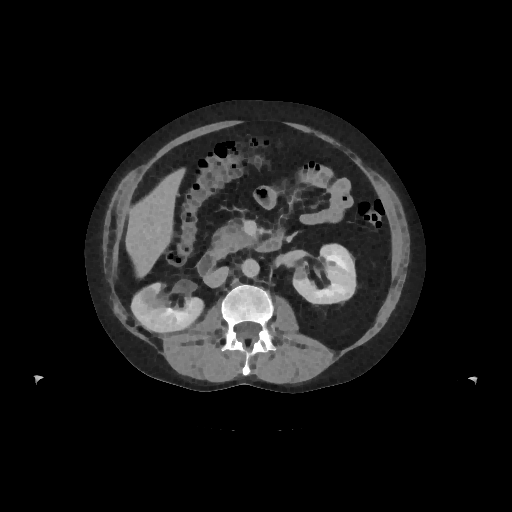Lesion: (294, 265, 308, 280)
